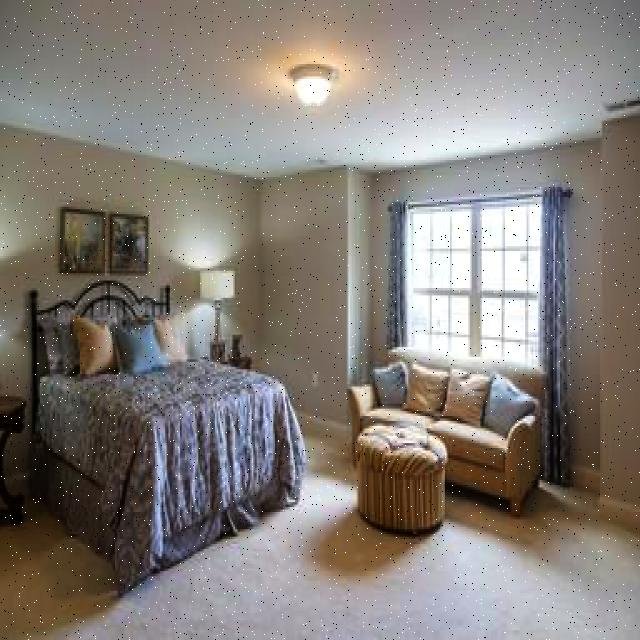bed: (28, 281, 300, 547)
